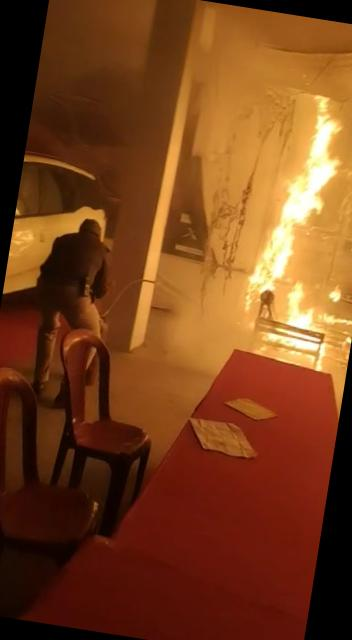Fire: (238, 85, 352, 324)
